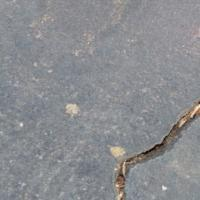crack: (110, 100, 199, 199)
